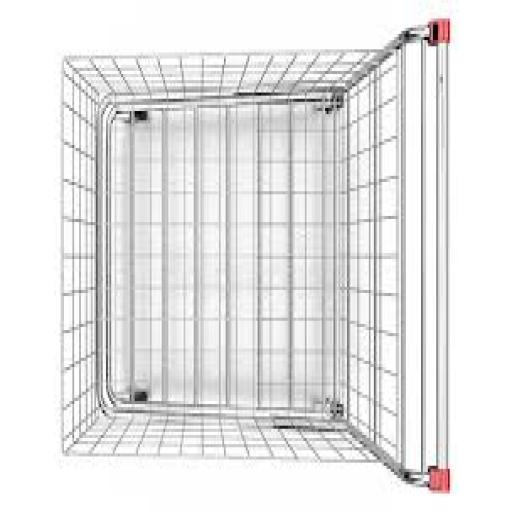shopping_cart: (43, 12, 455, 497)
